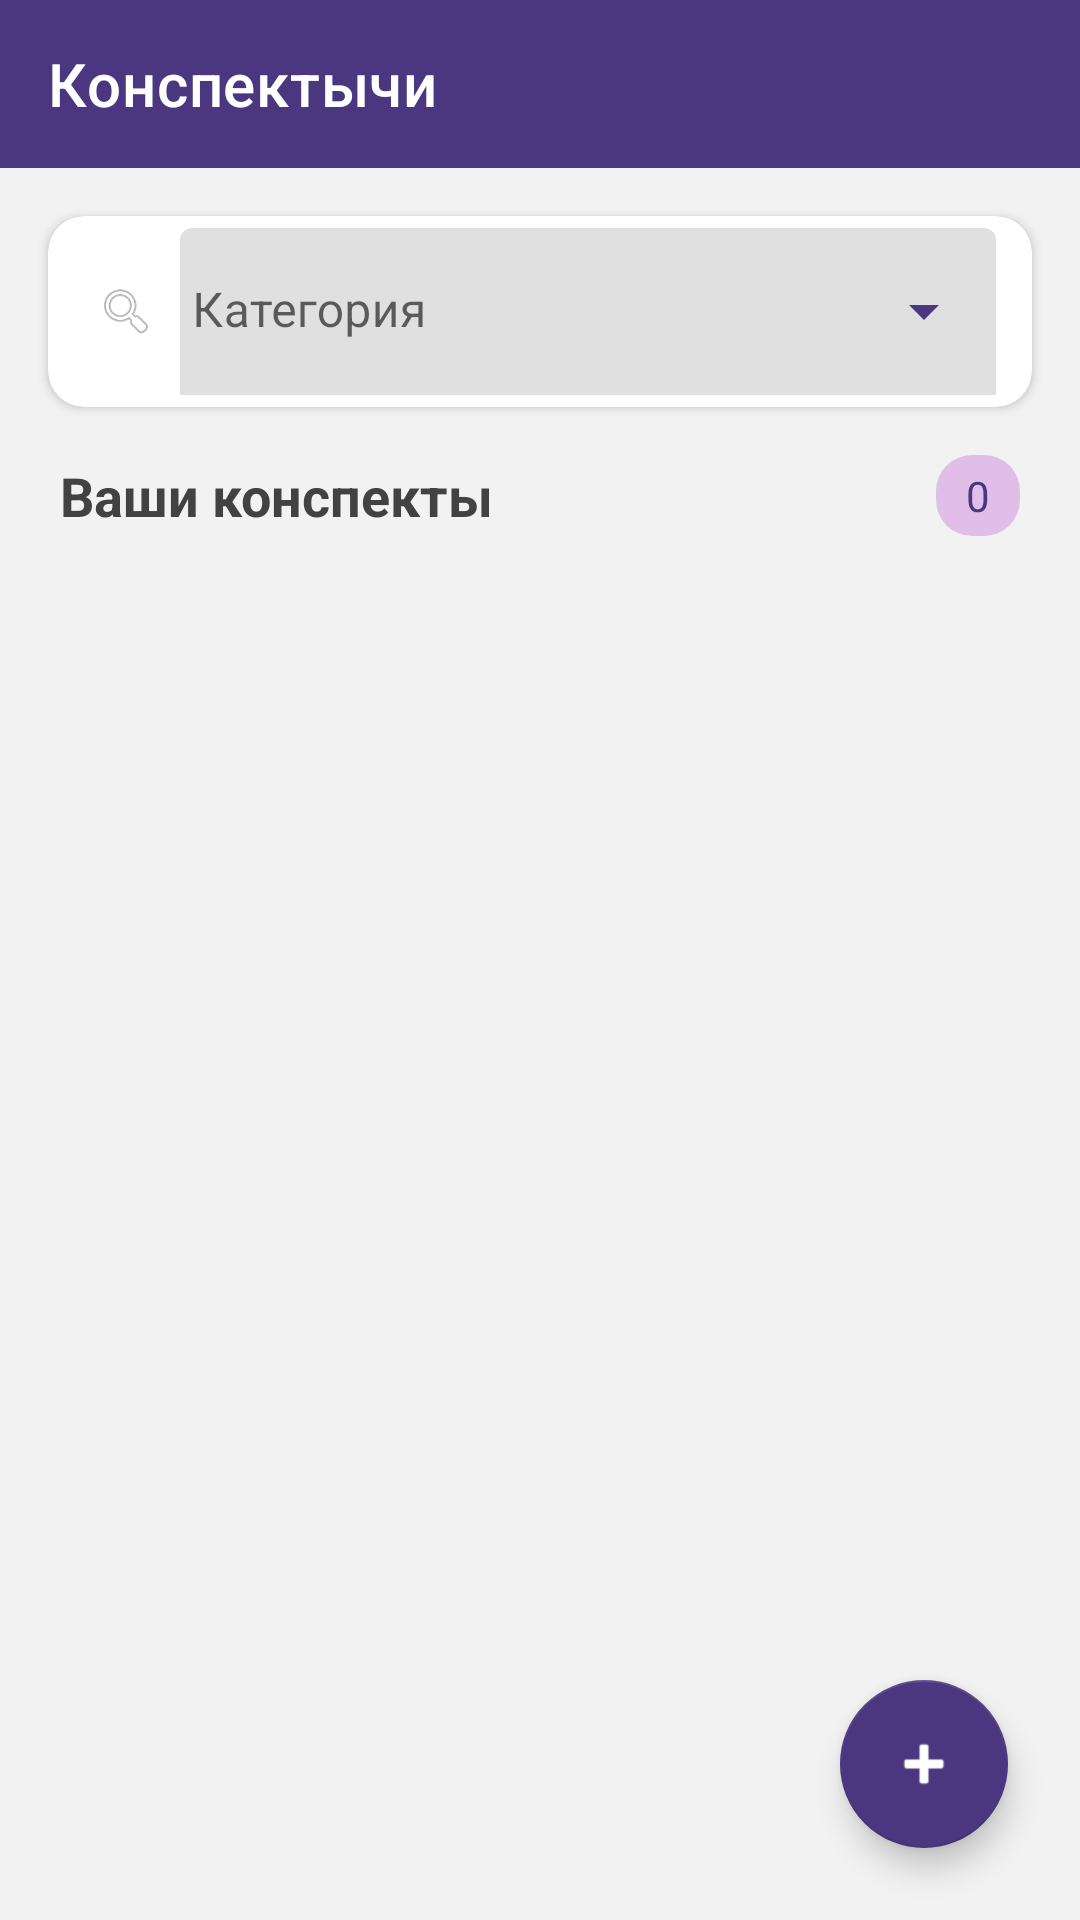

Icons on this 1080px×1920px Android screen, each with the point to tap as point (x, y):
Новый конспект: point (924, 1764)
Поиск: point (126, 311)
